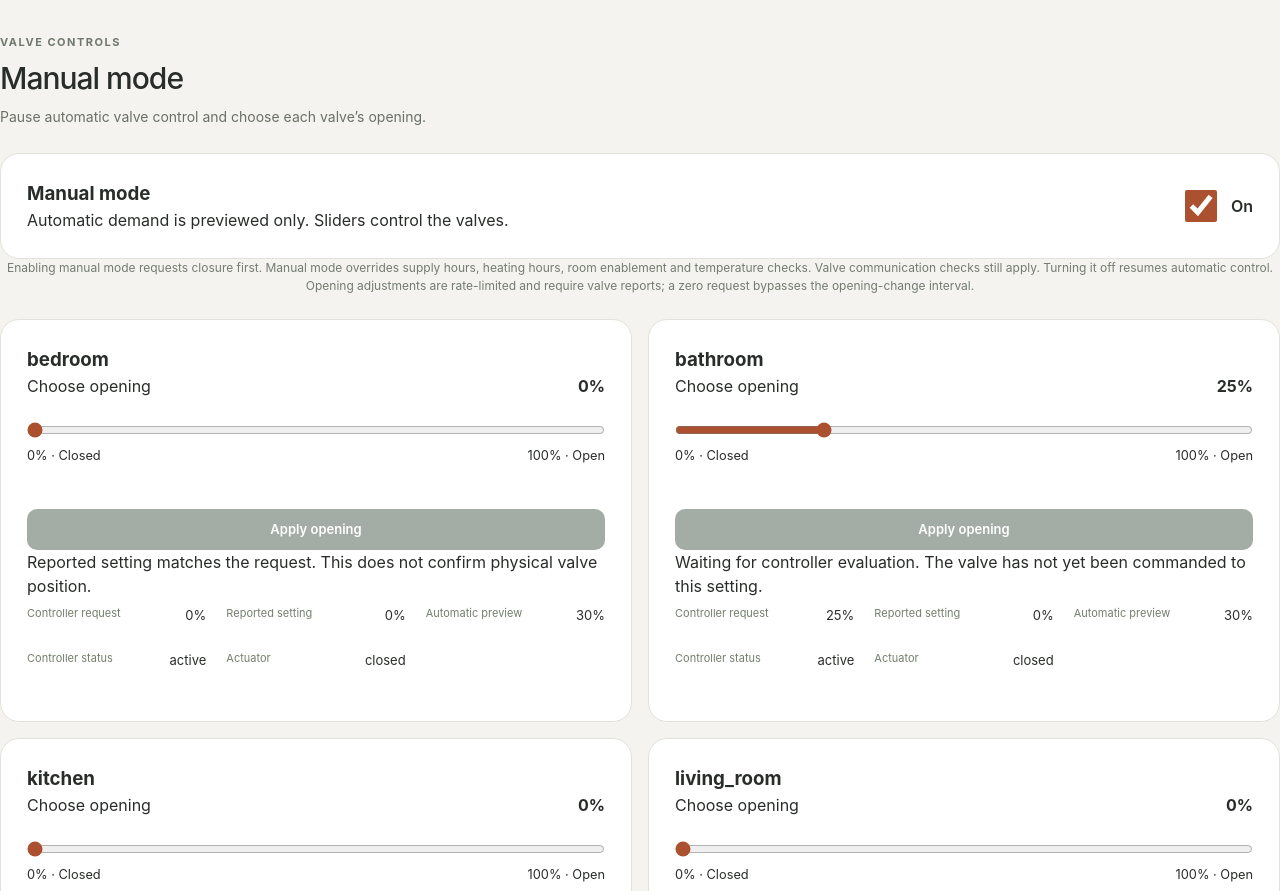
Scenario: submits one valve opening while preserving the other requests
The width and height of the screenshot is (1280, 891).
Set the slider labelled "Choose opening 0%" below "bedroom" to "73" at (445, 430), box [27,422,605,438]
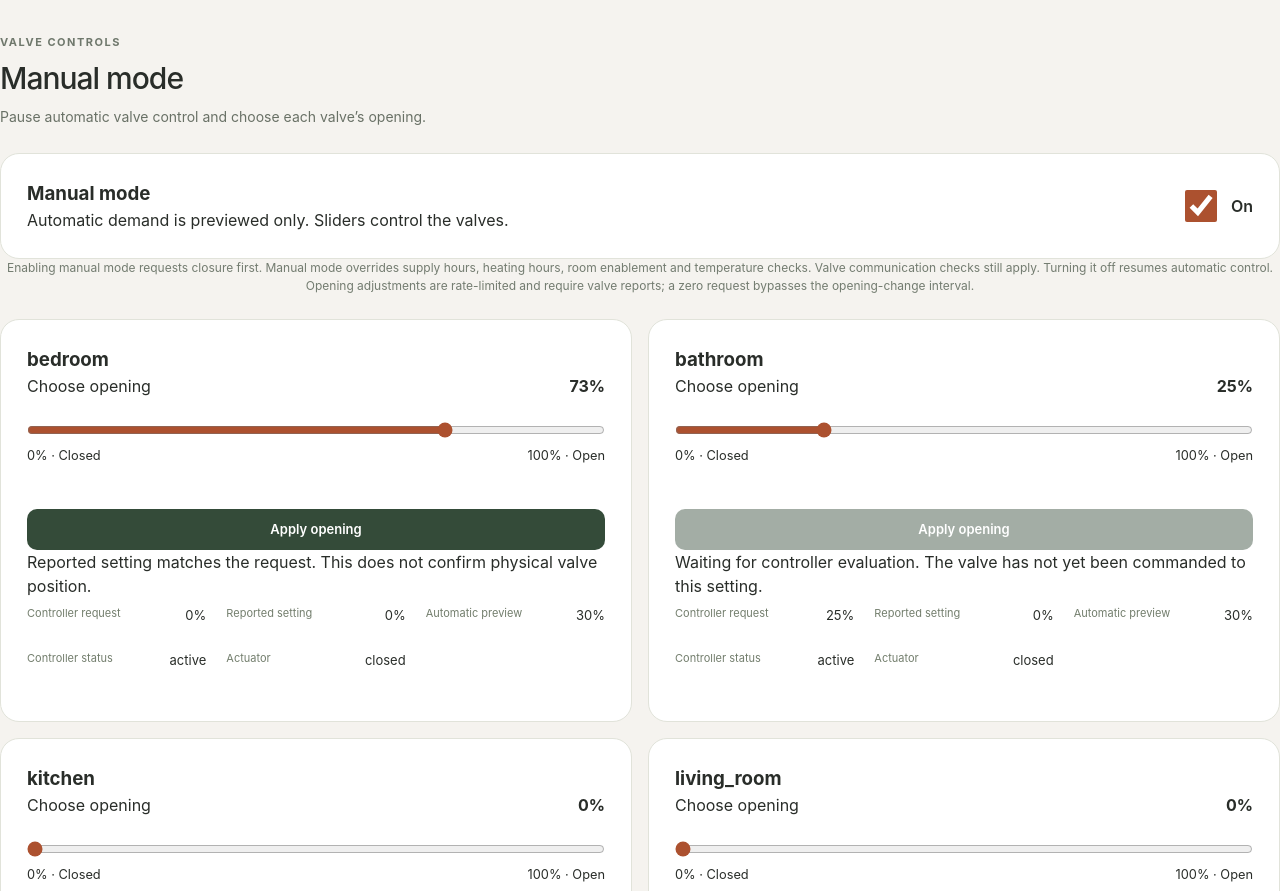
Click the button "Apply opening" below "73" at (316, 530), box [27,509,605,550]
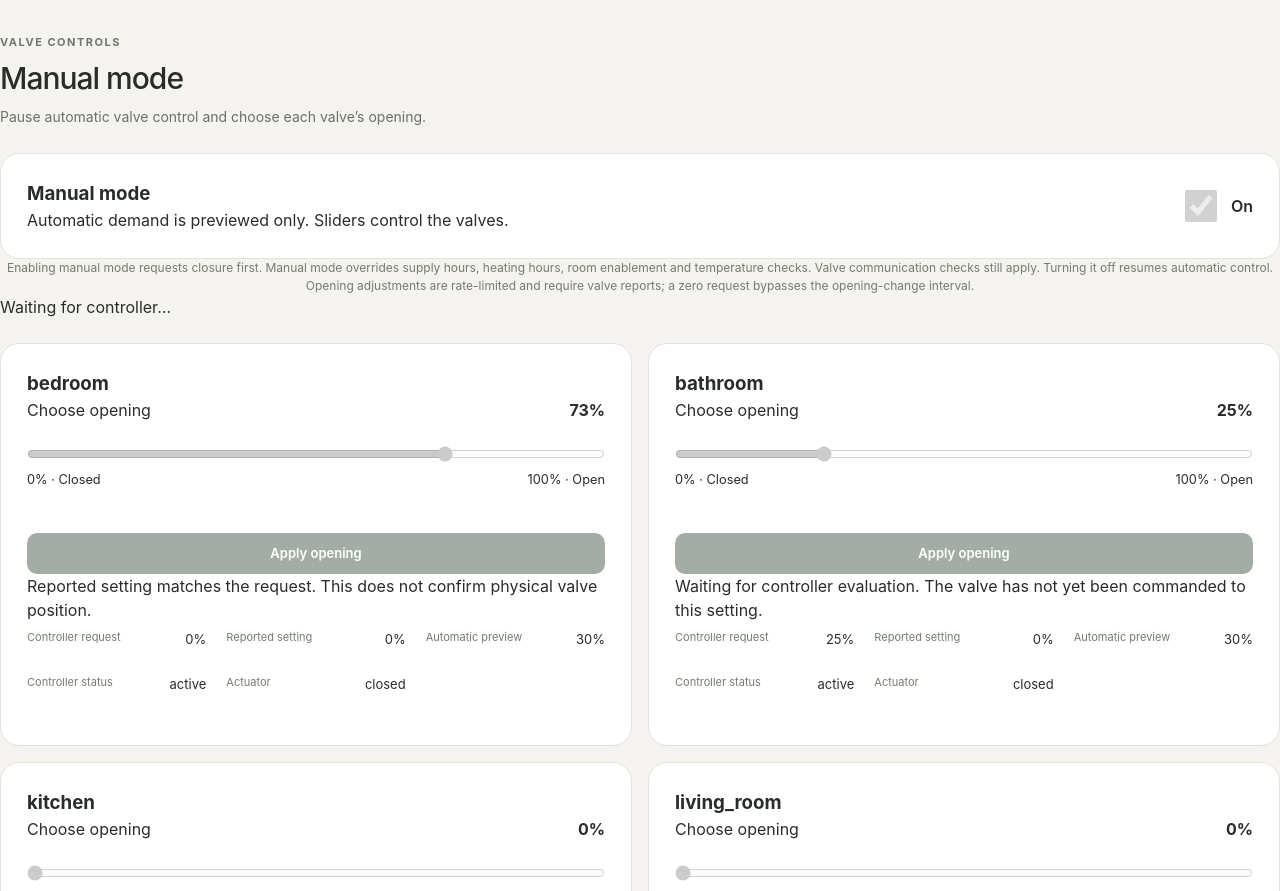
Expected: the text "Waiting for controller…" is shown, [0,297,171,317]
